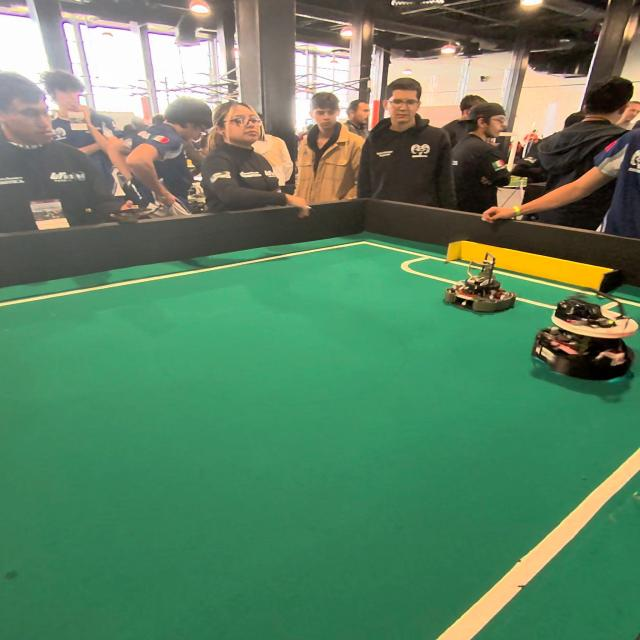Robot: (529, 285, 637, 391), (445, 248, 516, 315)
